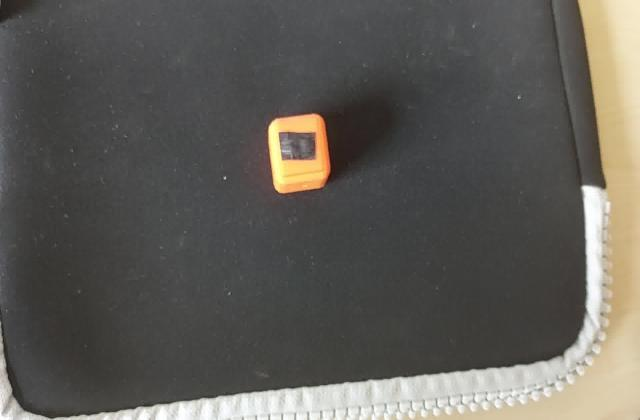black: (275, 128, 321, 166)
sticker: (266, 110, 332, 195)
